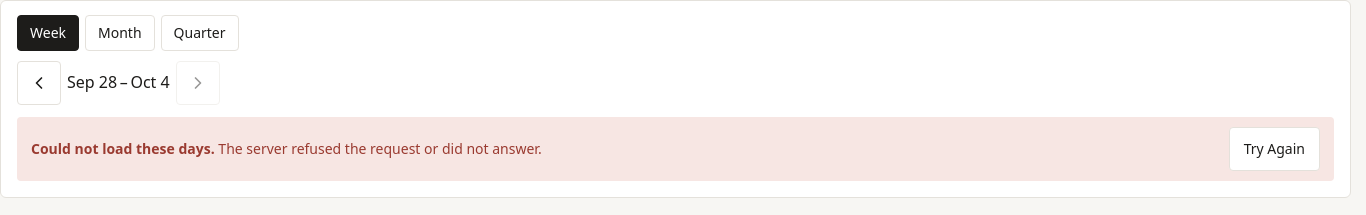
Test: Review › shows a failed load with Try again, which loads the review and hands the focus to Previous week
The width and height of the screenshot is (1366, 215).
Expected: the message shows "Could not load these days", [31, 139, 211, 158]
Click the button "Try Again". click: (1274, 149)
box: [1229, 127, 1320, 171]
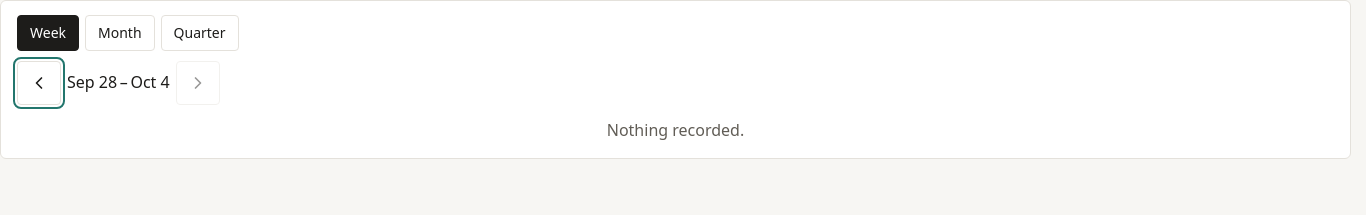
Expected: the message is gone
Expected: the text "Nothing recorded." is shown, [607, 119, 744, 141]
